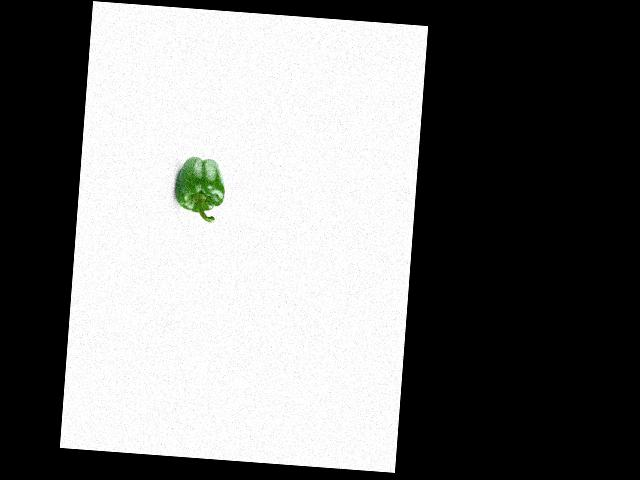bell_pepper: (173, 153, 228, 224)
